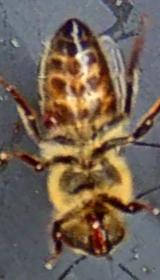varroa_mite: (36, 104, 66, 139)
